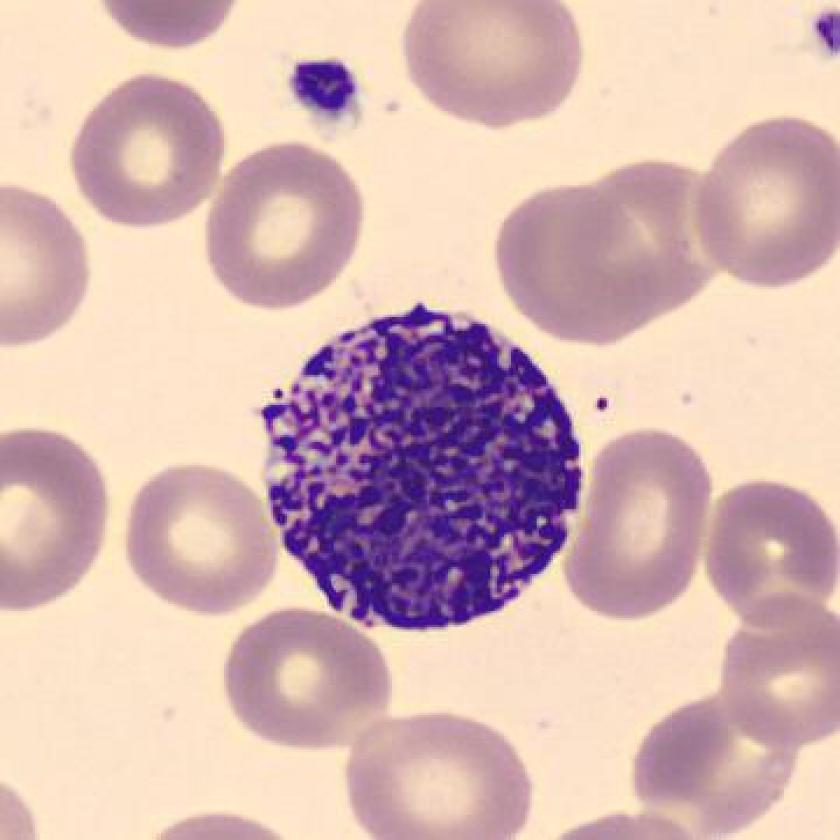basophil: (255, 309, 587, 635)
